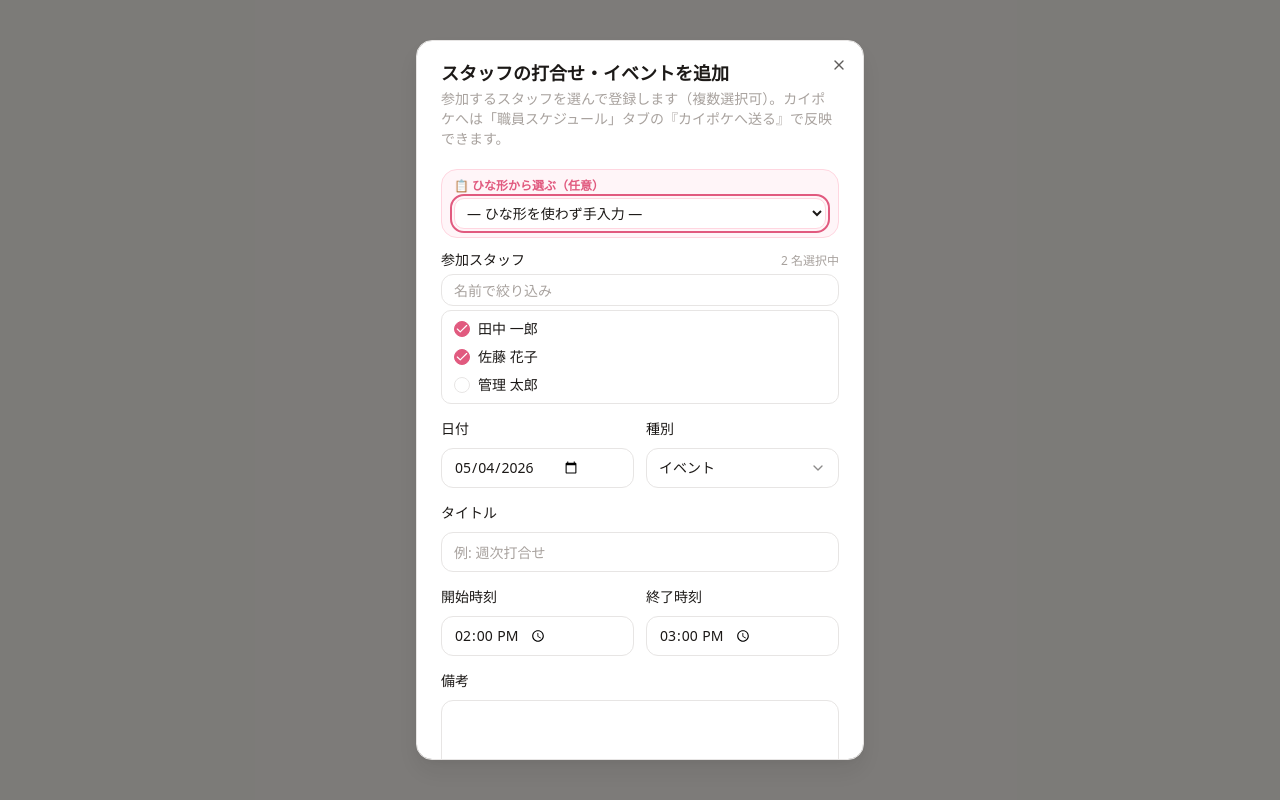
Scenario: TimelineEventAddDialog (D-1) › 4. 部分失敗時は成功済みを選択から外してダイアログを維持する
Type "週次打合せ" into the field labelled "タイトル" at (640, 552), box x1=441 y1=532 x2=839 y2=572
(page scrolled)
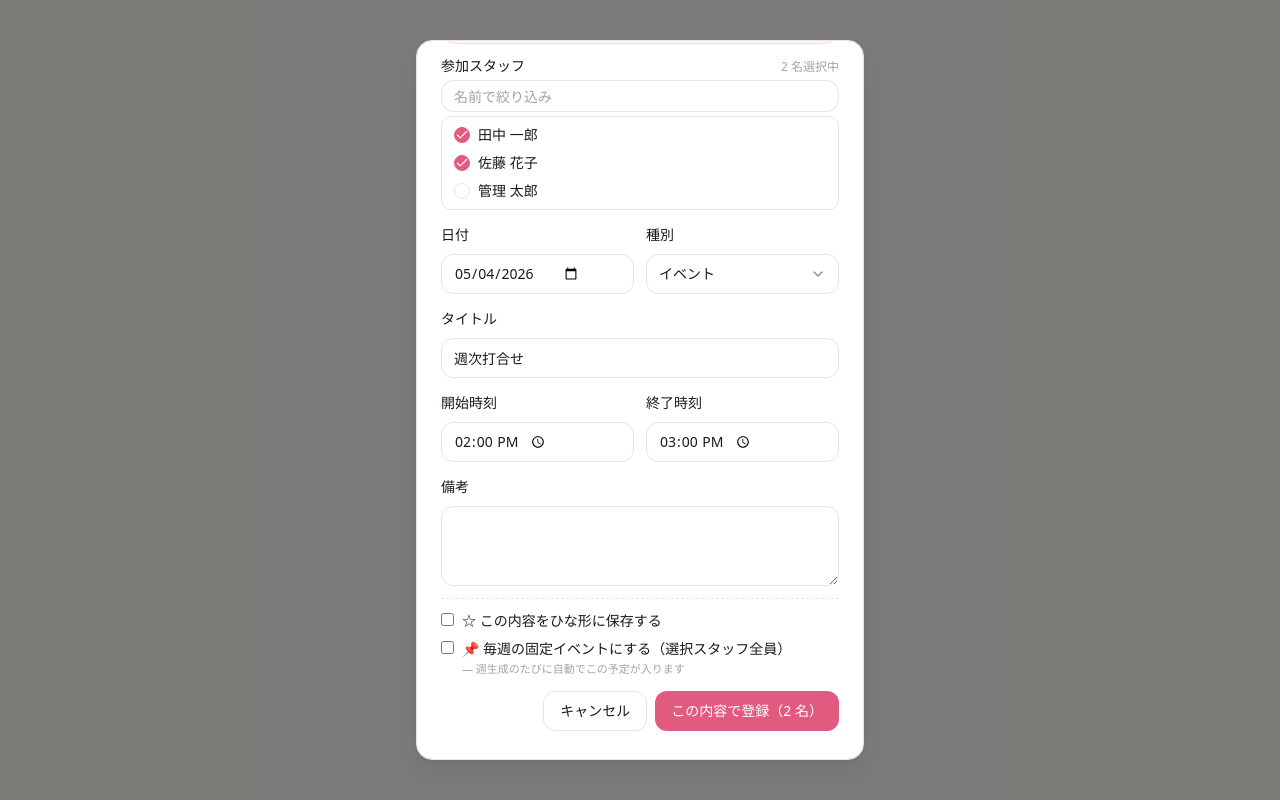
Click the button with test id "tl-event-submit" at (747, 711), box x1=655 y1=691 x2=839 y2=731
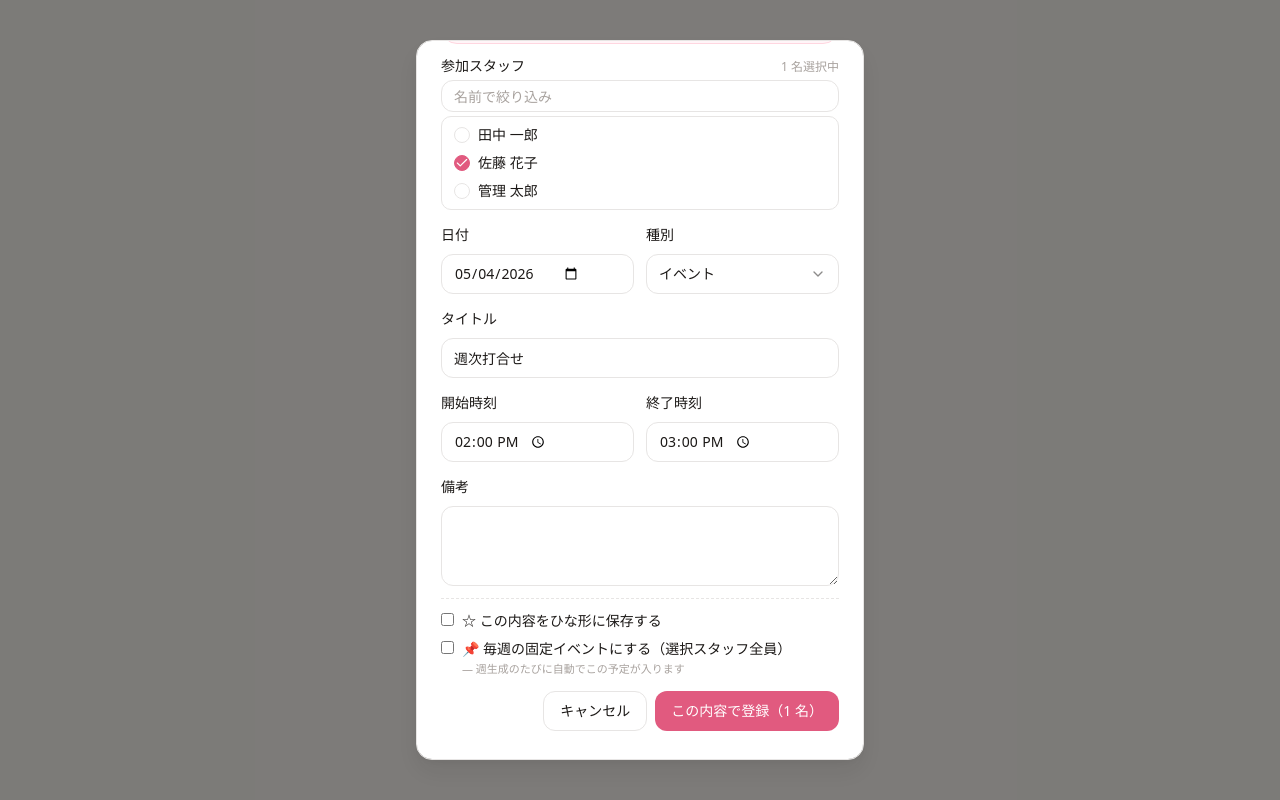
Result: the text with test id "tl-event-staff-count" reads "1 名選択中" at x1=781 y1=59 x2=839 y2=75
